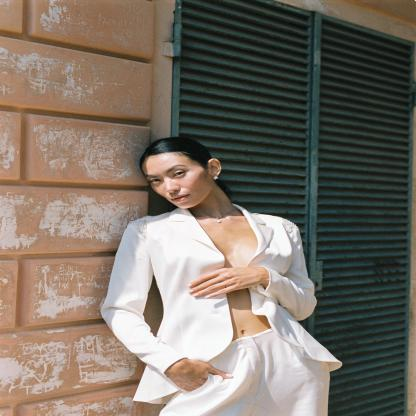Eye: (171, 169, 189, 179), (148, 176, 163, 185)
Mouth: (169, 193, 192, 203)
Nose: (163, 177, 183, 194)
